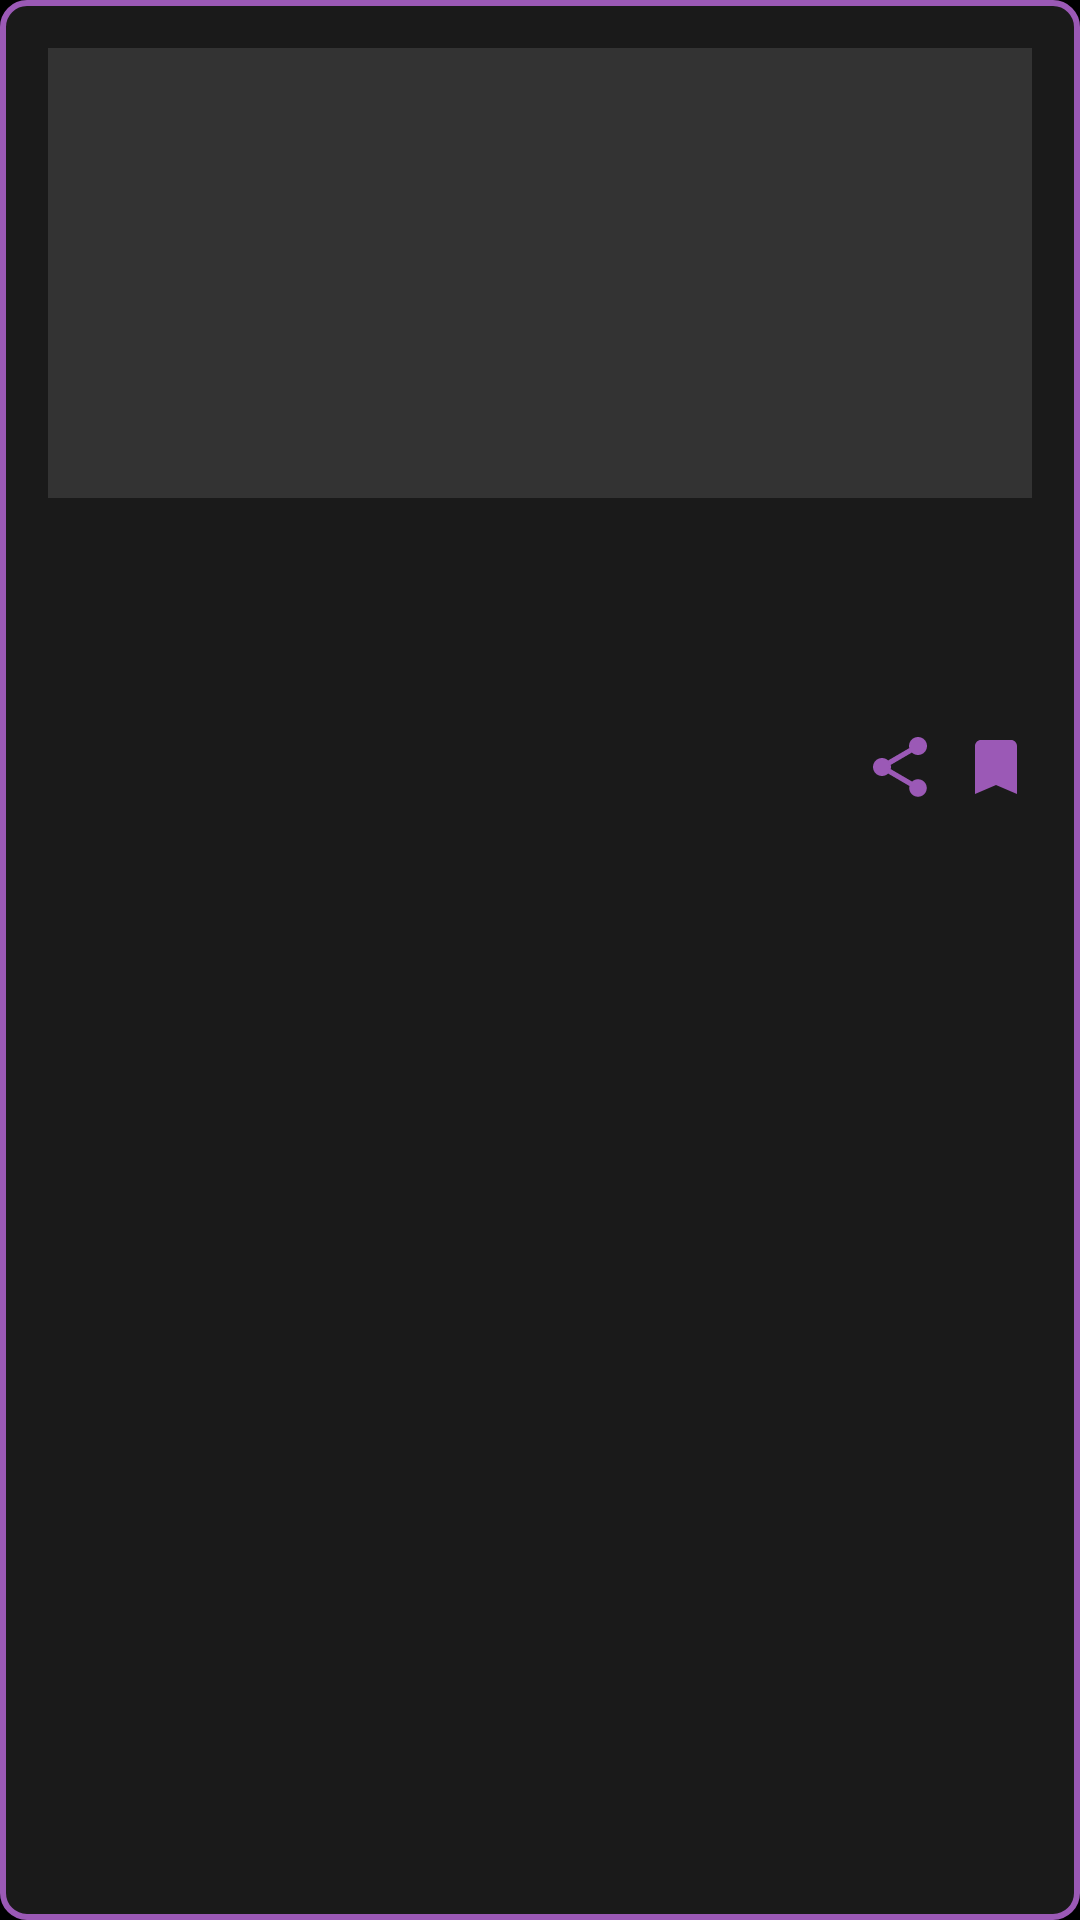

Named icons in this screenshot (1080w x 1920h) and their centers, [x,y]:
Save news article: [996,767]
Share news article: [900,767]
